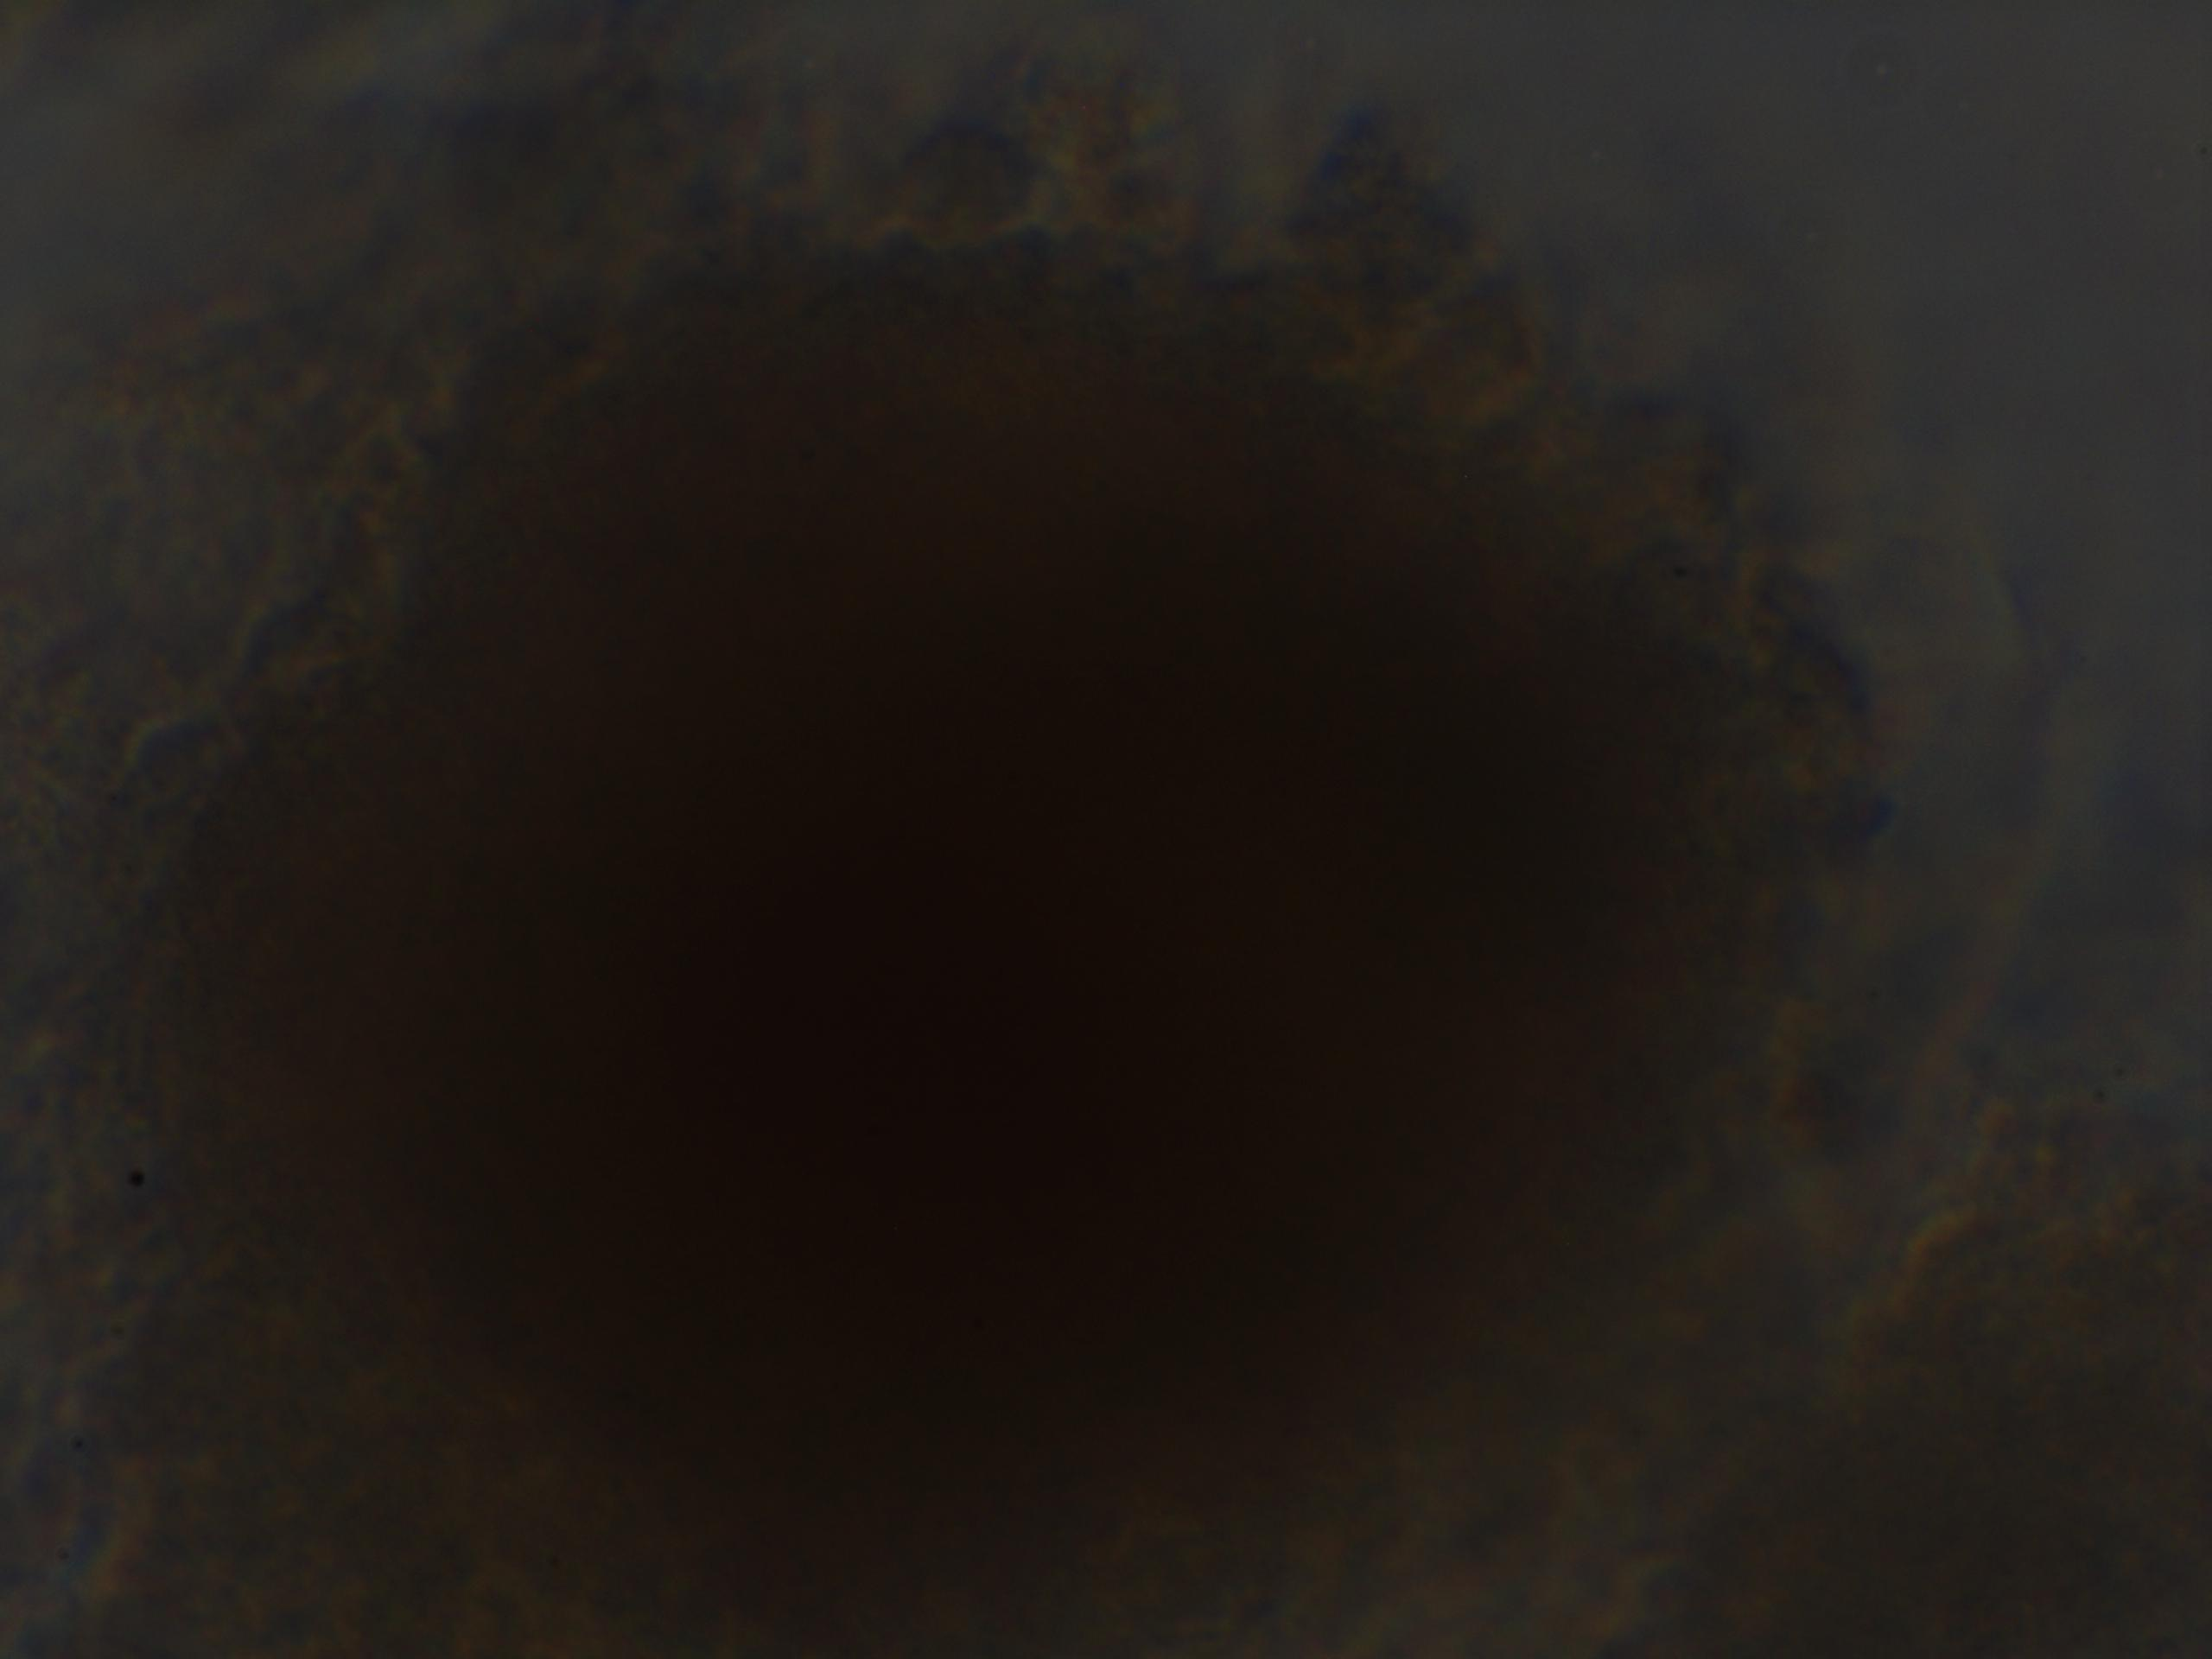spherical_floc: (0, 160, 1851, 1659)
